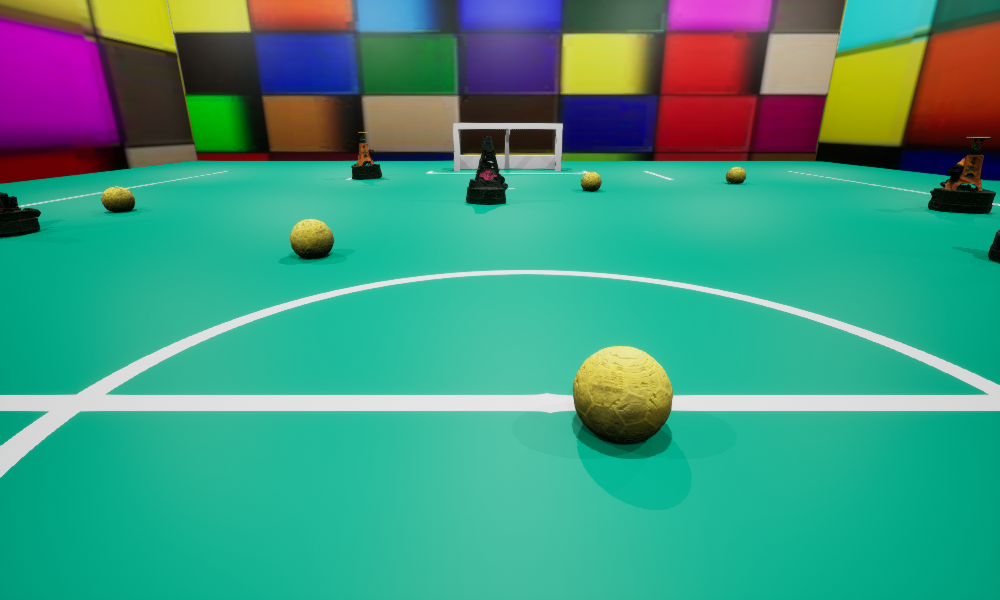b: (573, 346, 672, 442), (290, 219, 333, 256), (101, 186, 134, 210), (581, 172, 601, 189), (726, 167, 745, 183)
o: (928, 137, 995, 213), (351, 132, 381, 179)
p1: (466, 136, 507, 204), (988, 230, 999, 261)
p2: (0, 192, 40, 237)
